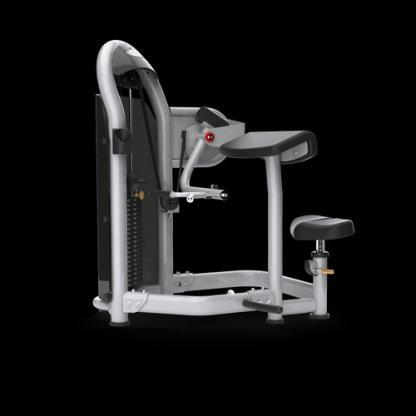arm curl machine: (92, 38, 355, 327)
